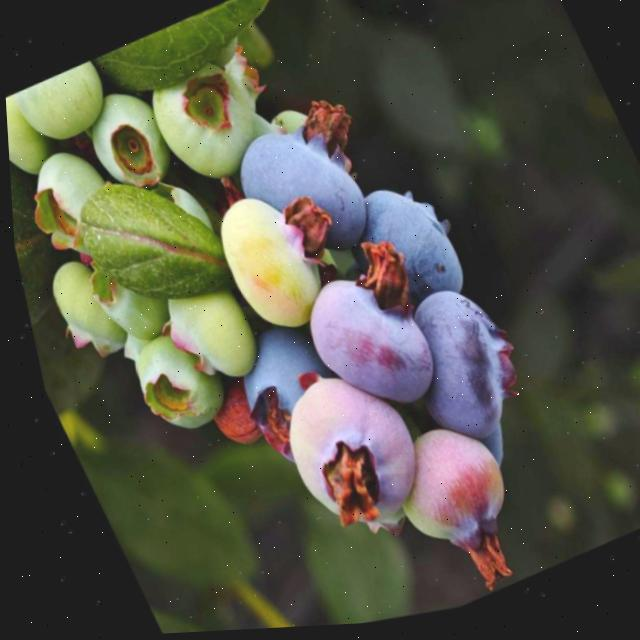RipeBlueBerry: (371, 272, 536, 469), (213, 103, 383, 286), (321, 165, 474, 334), (206, 311, 353, 469)
Semi-RipeBlueBerry: (247, 349, 439, 559), (274, 251, 448, 442), (357, 408, 522, 579)
UnripeBlueBerry: (192, 175, 345, 355), (127, 39, 276, 202), (143, 266, 266, 403), (7, 136, 130, 268), (67, 74, 185, 210), (108, 318, 228, 451), (29, 247, 130, 374), (5, 58, 122, 154), (4, 85, 56, 183)
